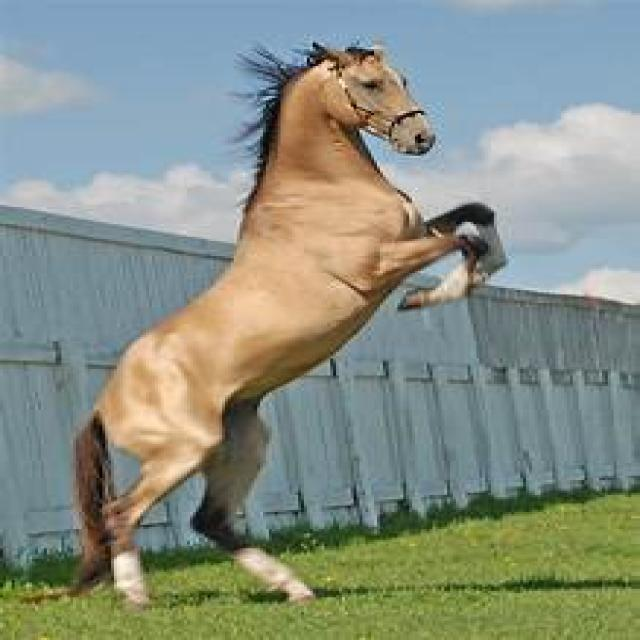horse: (67, 41, 506, 617)
